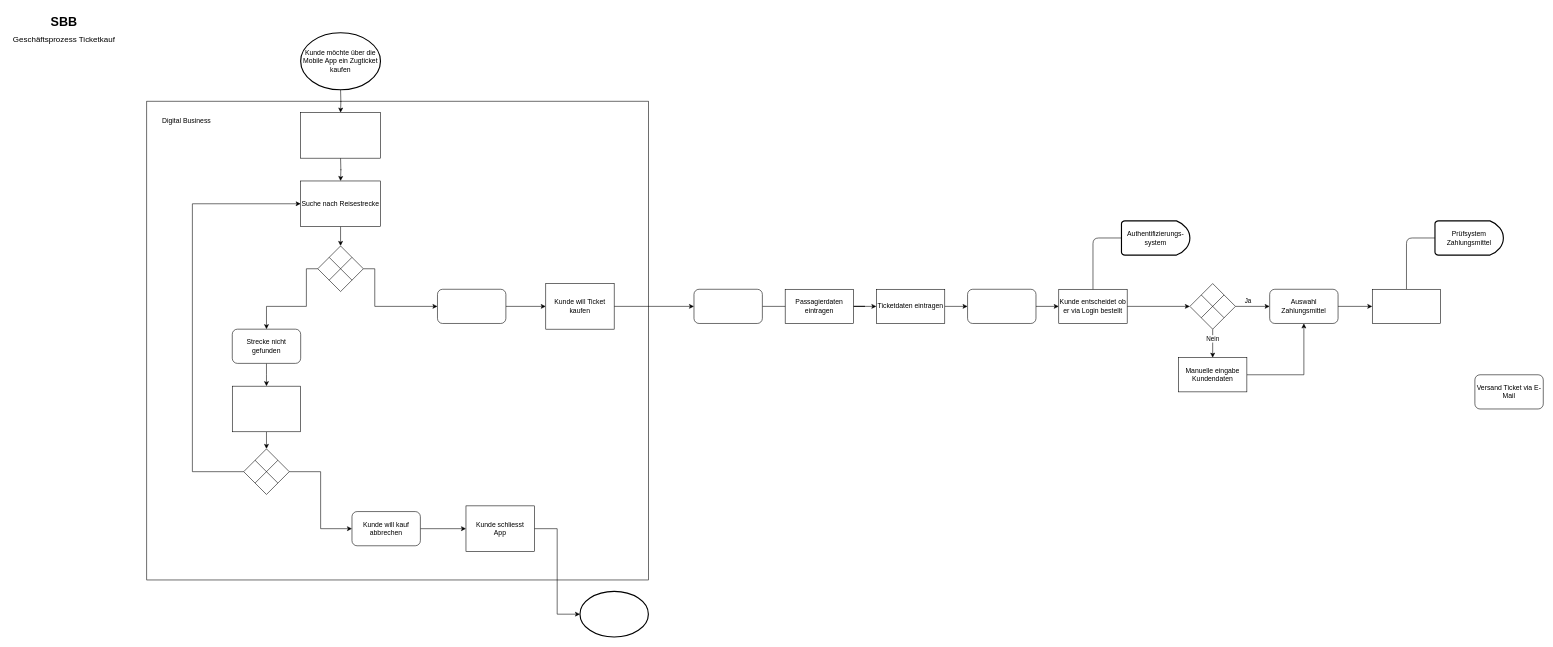
Image size: 1553x647. Some labels were removed from this diagram. Here are the shapes that lost their labels. From the top down, the centre of each, then its label:
pixel 340 135: Öffnen der Mobile App
pixel 471 306: Strecke gefunden
pixel 727 306: "Ab CHF xx.xx"
pixel 1001 306: "Ticket kaufen"
pixel 1406 306: Eingabe Zahlungsmitteldaten
pixel 266 409: Kunde entscheidet ob er eine neue Strecke suchen will
pixel 614 614: Kein Ticket gekauft
